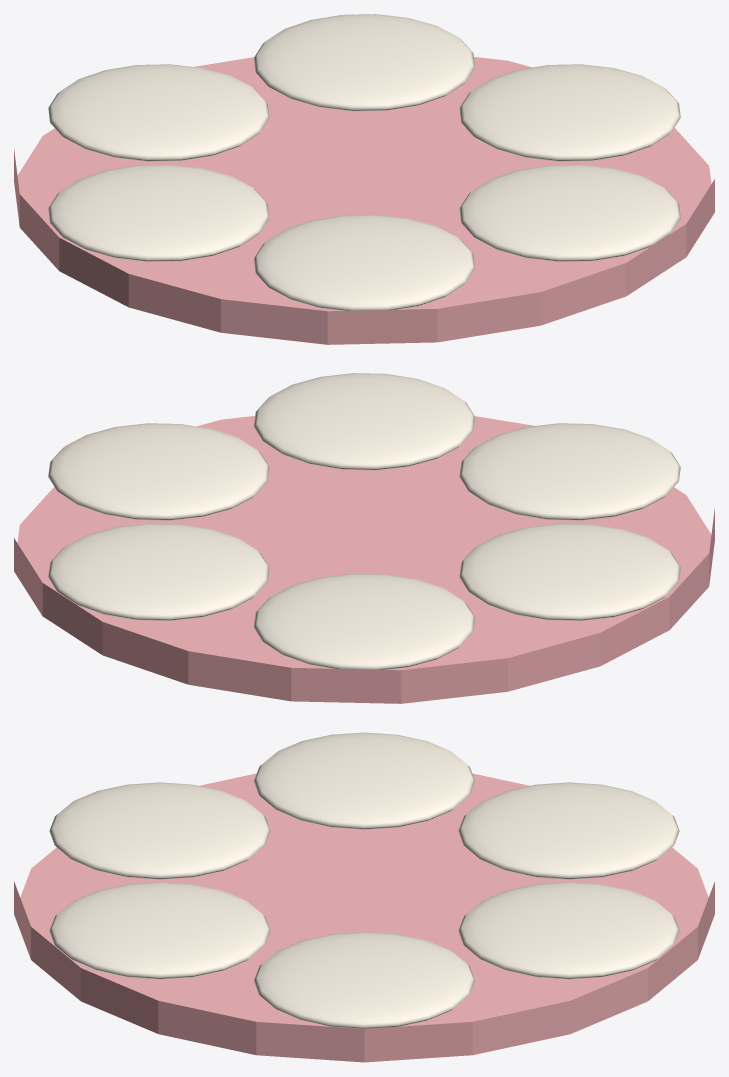
File: rug.glb
The picture shows the model from 3 angles, top to bottom: view 1: azimuth 30°, elevation 25°; view 2: azimuth 150°, elevation 25°; view 3: azimuth 270°, elevation 25°; orthographic projection.
Visible parts, largest first — view 1: rug, petal4, petal0, petal1, petal3, petal5, petal2; view 2: rug, petal2, petal0, petal5, petal3, petal1, petal4; view 3: rug, petal1, petal5, petal3, petal2, petal4, petal0.
Boxes of the visible parts, x1,y1,x2,y2 form: rug: (14, 57, 714, 344); petal4: (48, 64, 269, 161); petal0: (459, 64, 680, 161); petal1: (459, 164, 680, 261); petal3: (48, 164, 269, 261); petal5: (254, 14, 474, 111); petal2: (254, 214, 474, 310); rug: (14, 416, 714, 703); petal2: (459, 423, 680, 520); petal0: (48, 423, 269, 520); petal5: (48, 523, 269, 620); petal3: (459, 523, 680, 620); petal1: (254, 373, 474, 470); petal4: (254, 573, 474, 669); rug: (14, 773, 714, 1062); petal1: (49, 882, 270, 979); petal5: (458, 882, 679, 979); petal3: (254, 732, 474, 829); petal2: (49, 782, 270, 879); petal4: (458, 782, 679, 879); petal0: (254, 932, 474, 1028).
Bounding box in the file's own units: 0.95 × 0.07 × 0.95.
